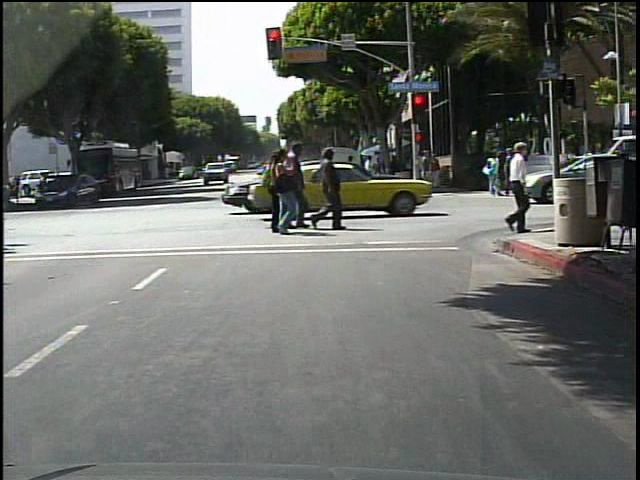person: (491, 138, 534, 239)
